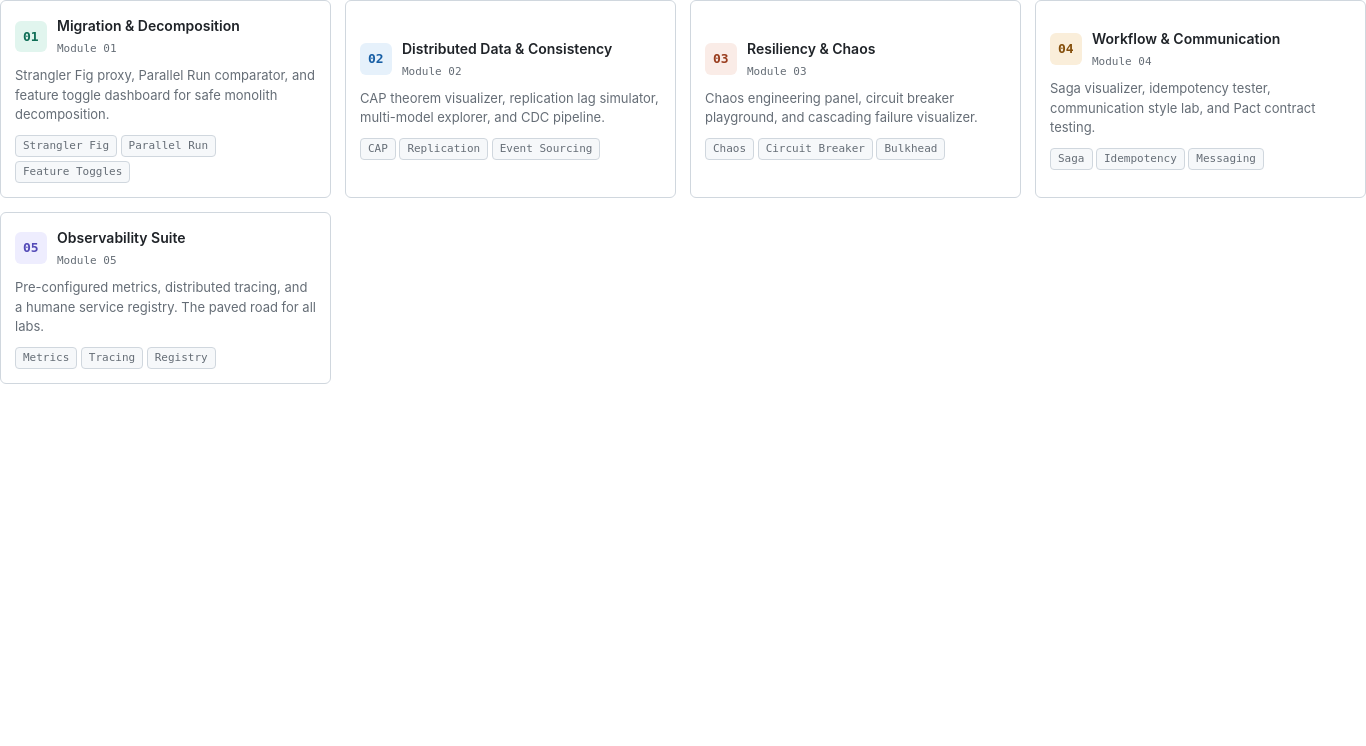
it: labs prototype flow › submits a preset request and displays a successful result
Click the button "Migration & Decomposition": (166,99) [0,0,331,198]
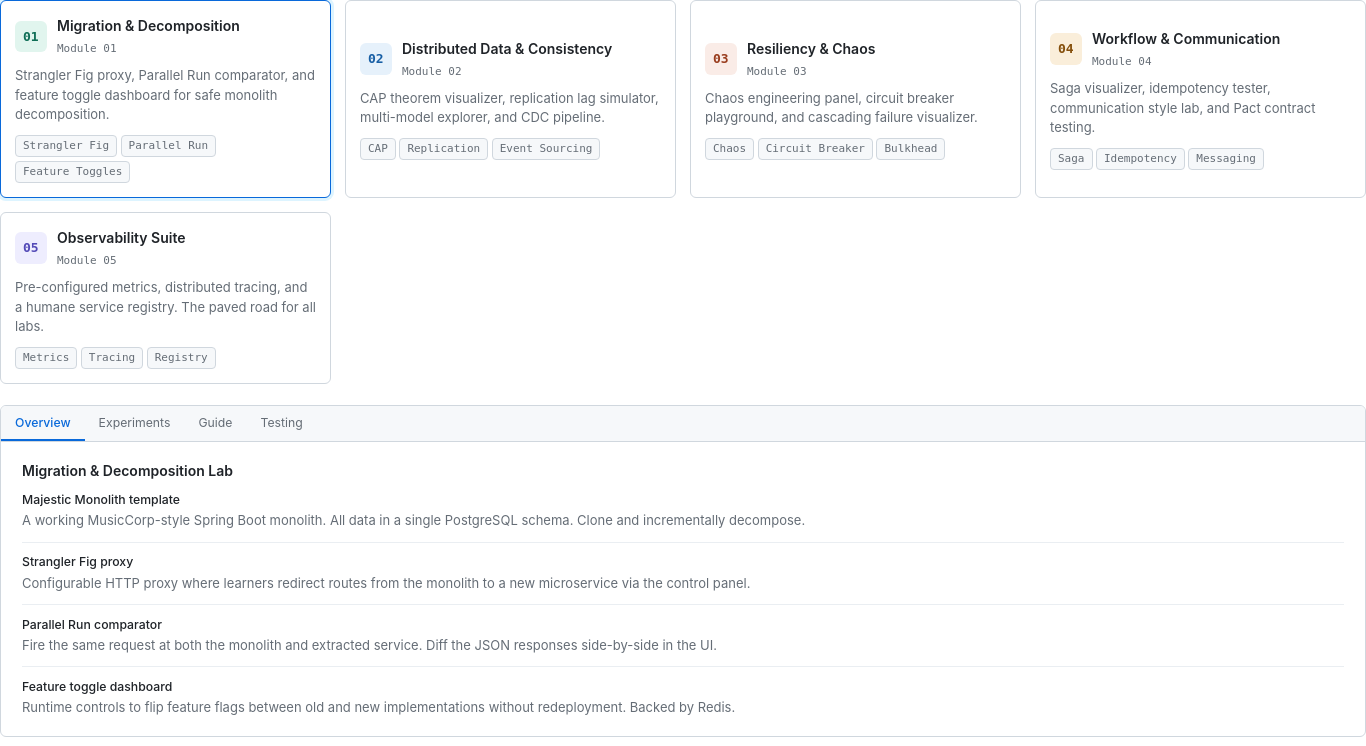
Click the tab "Testing": (282,424) [246,406,317,441]
(page scrolled)
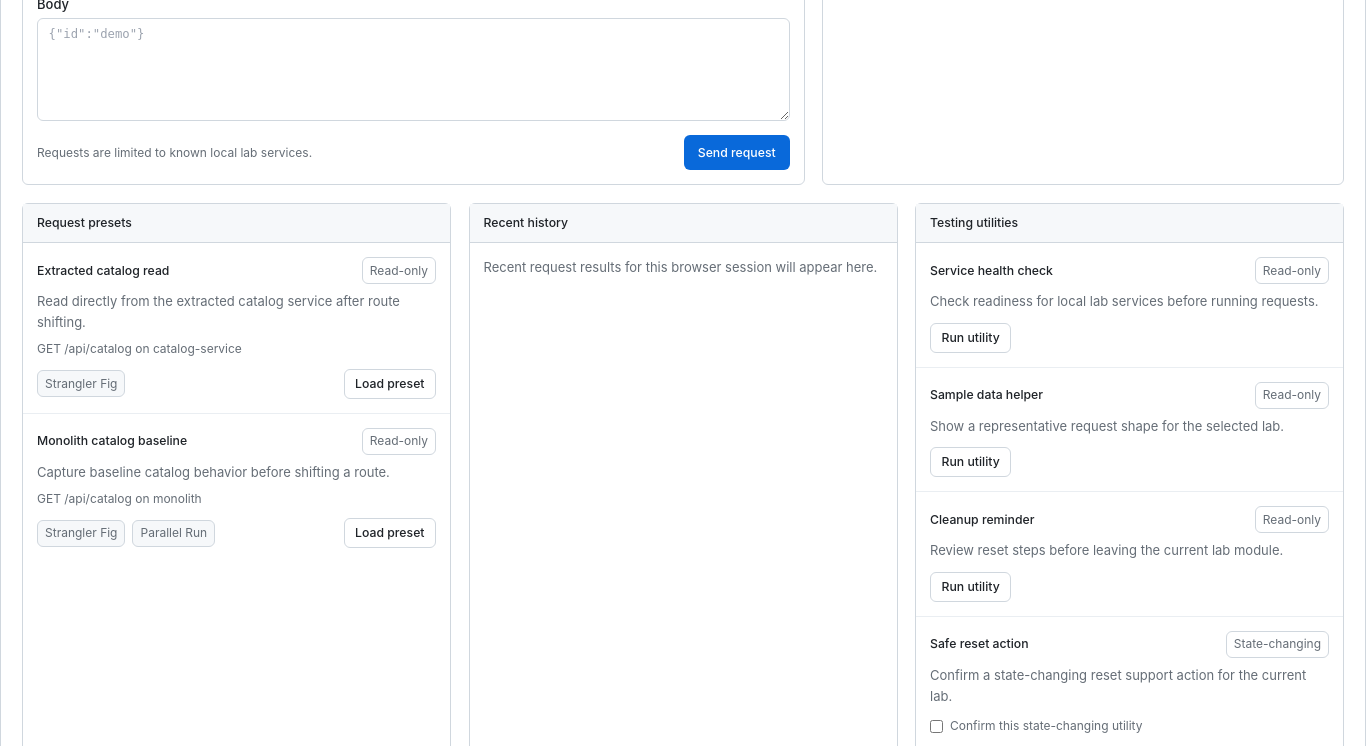
Click the button "Load preset" below "catalog-service": (390,384) [344,368,436,398]
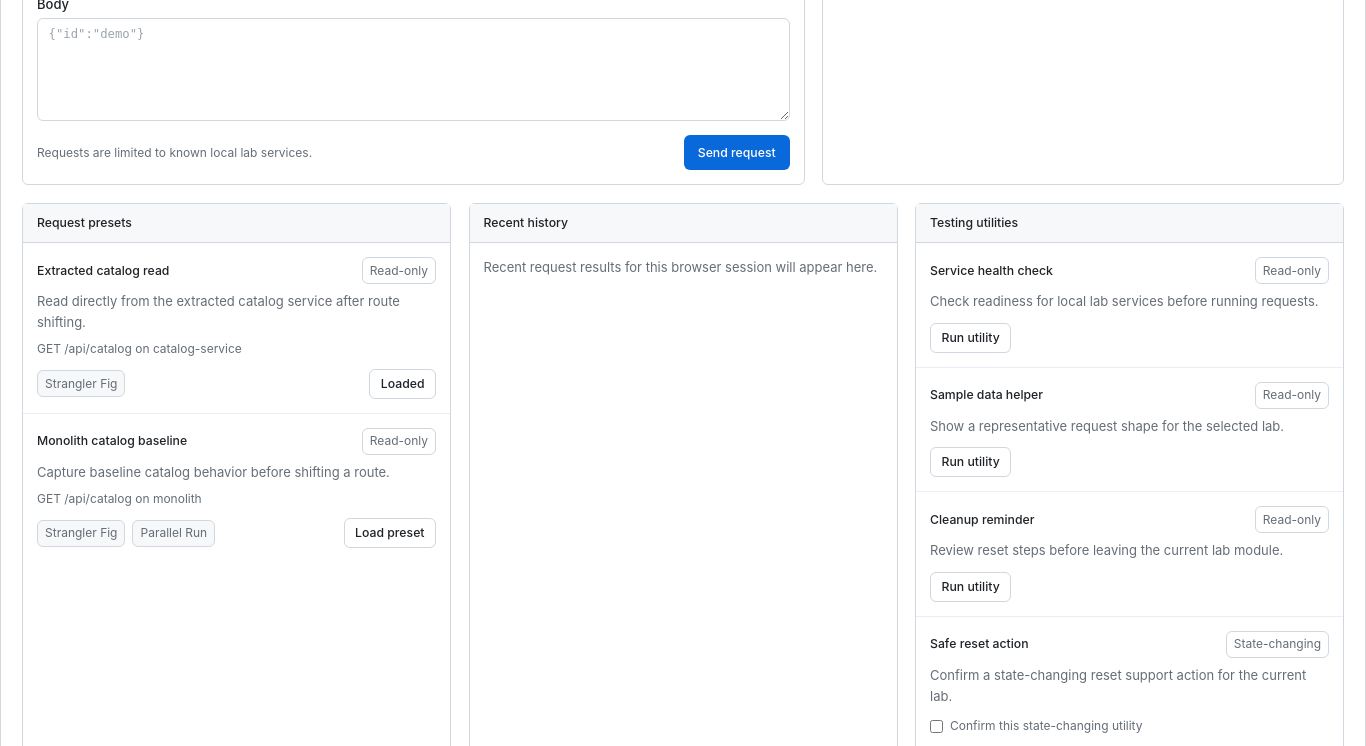
Click the button "Send request": (737,152) [684,135,790,170]
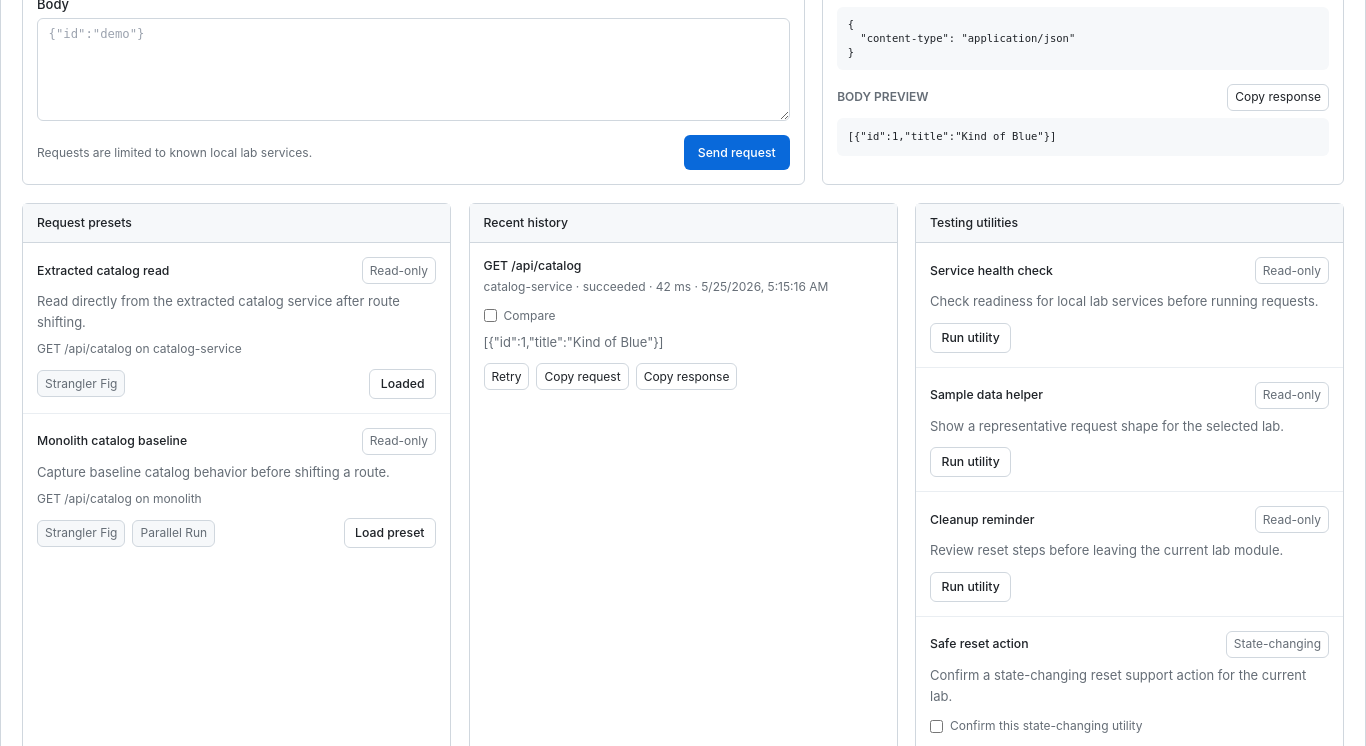
Result: the text "[{\"id\":1,\"title\":\"Kind of Blue\"}]" below "Body preview" is shown at [848,130,1056,142]
